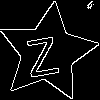Z: (23, 28, 60, 78)
